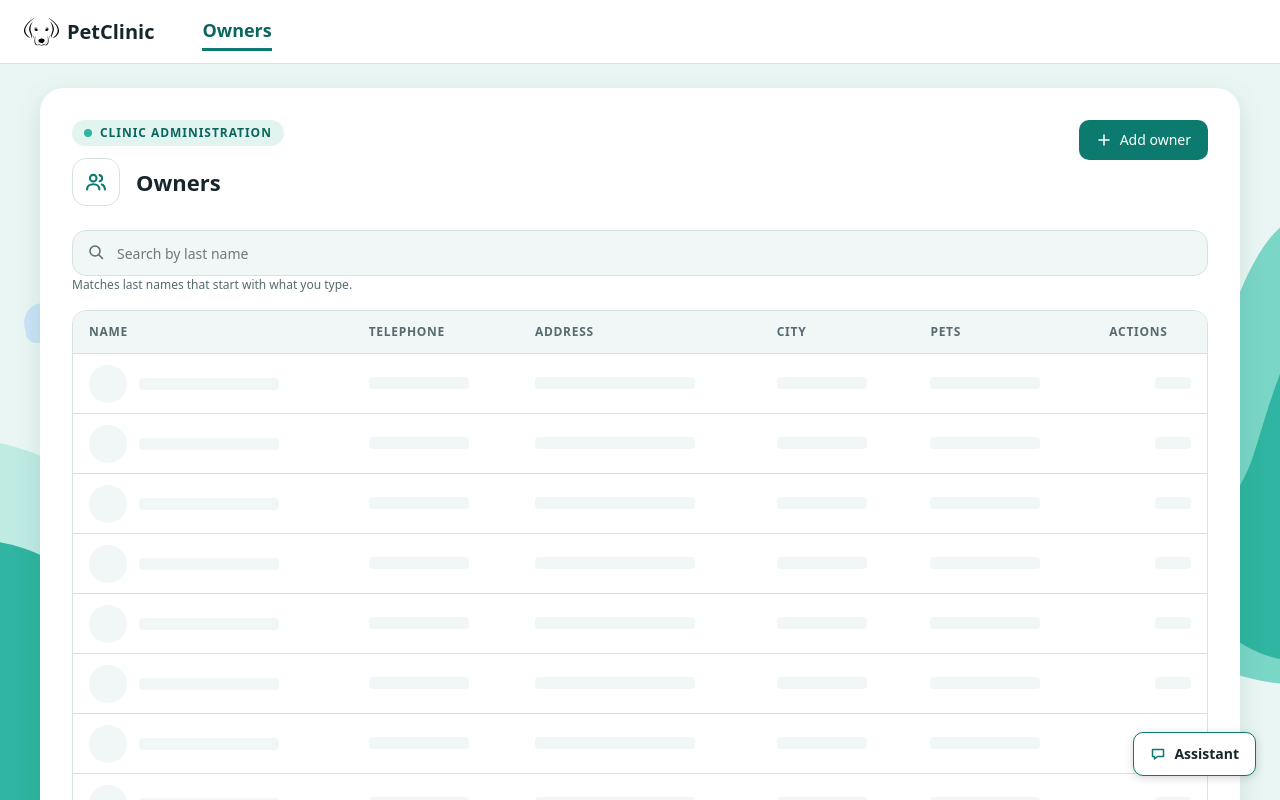
Test: Assistant panel › can be reopened after closing
Click the button "Assistant": (1195, 754) x1=1133 y1=732 x2=1256 y2=776
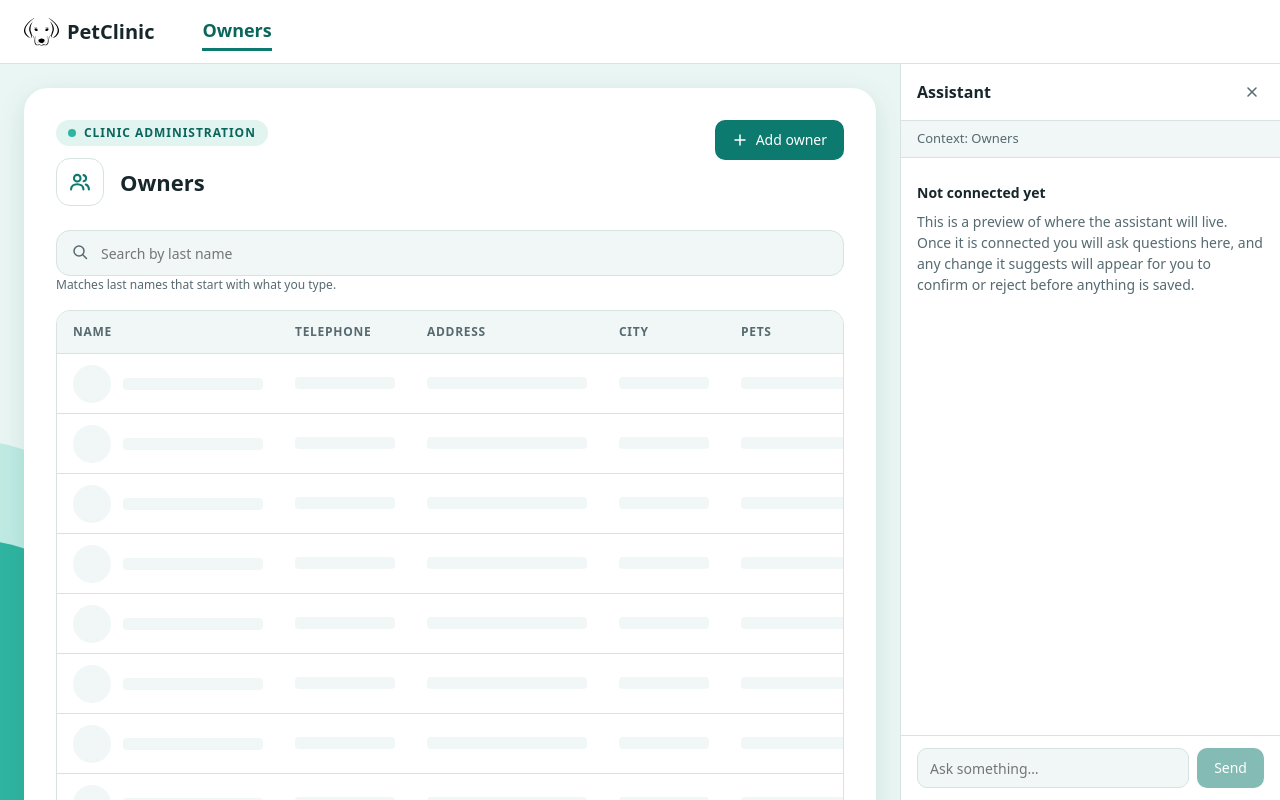
Click the button named "Close assistant": (1252, 92) x1=1232 y1=72 x2=1272 y2=112
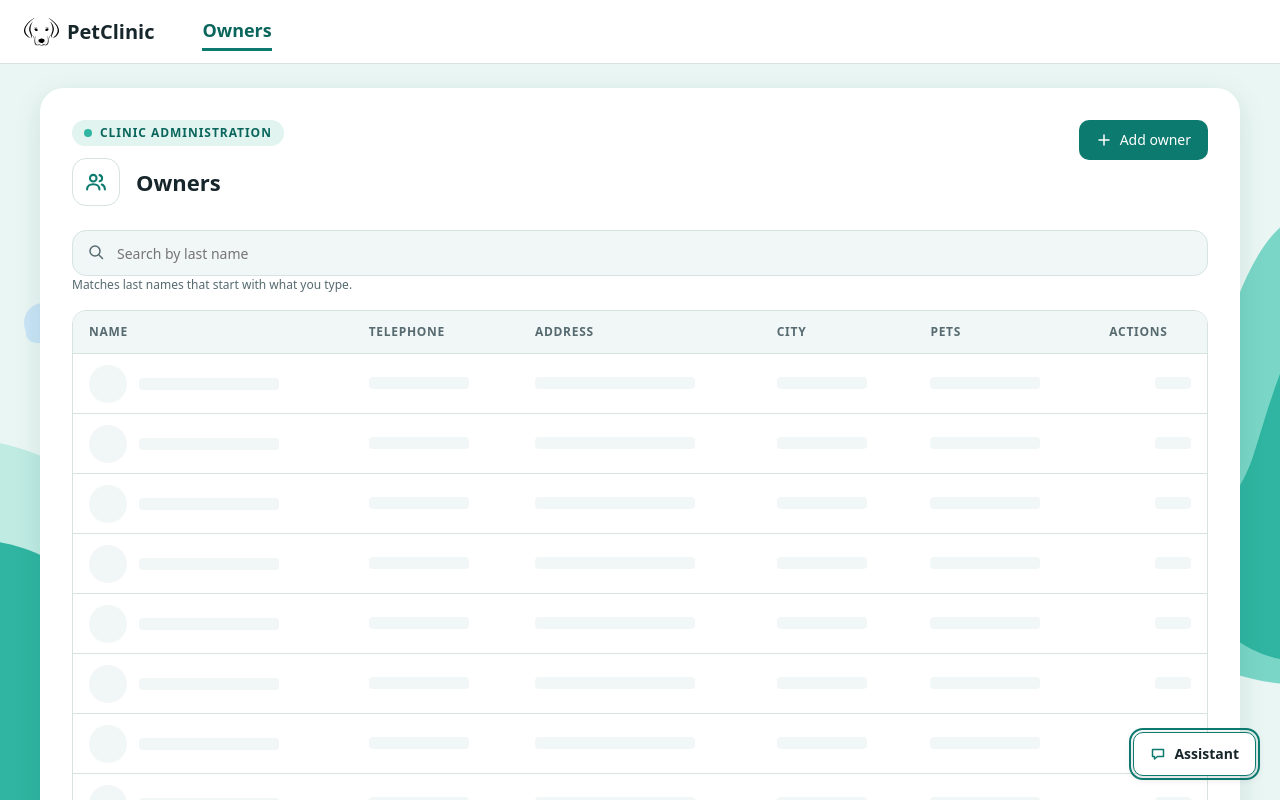
Click the button "Assistant": (1195, 754) x1=1133 y1=732 x2=1256 y2=776
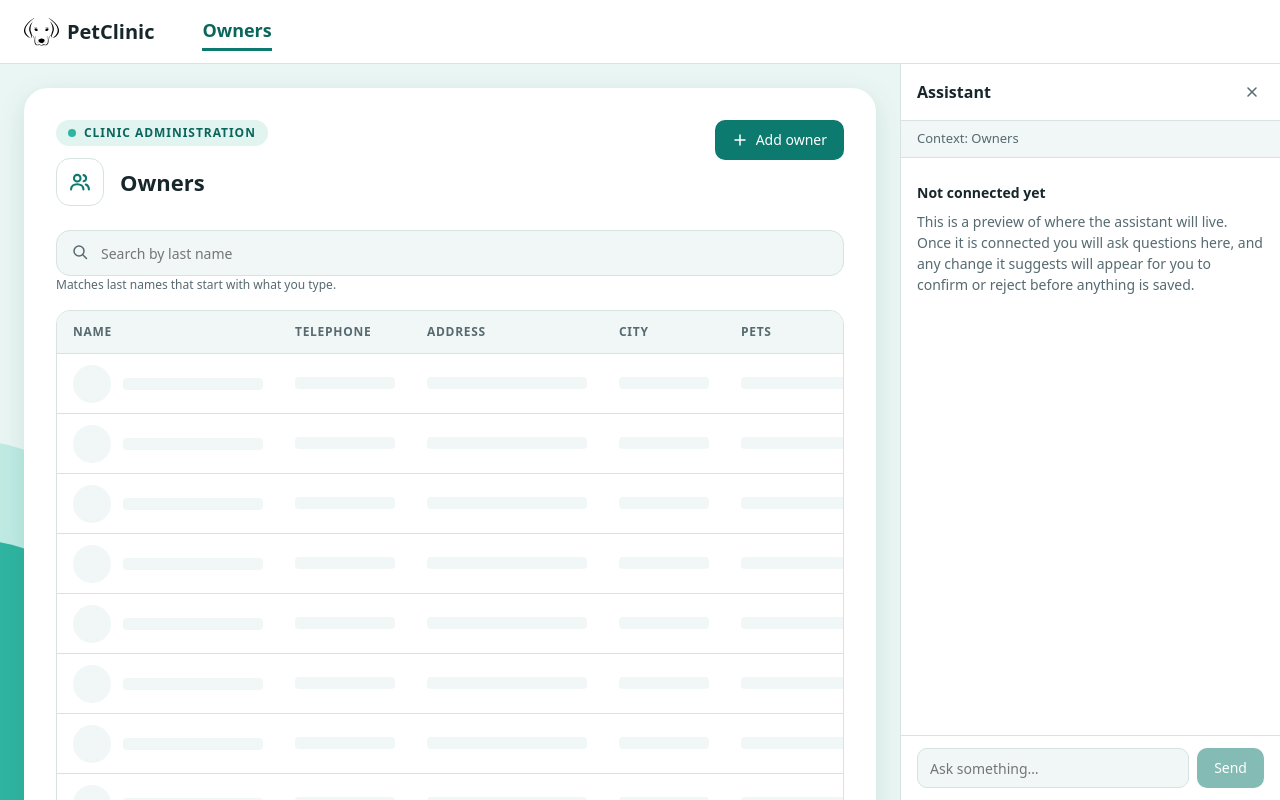
Now the element "Assistant" is shown, box x1=900 y1=64 x2=1279 y2=799
